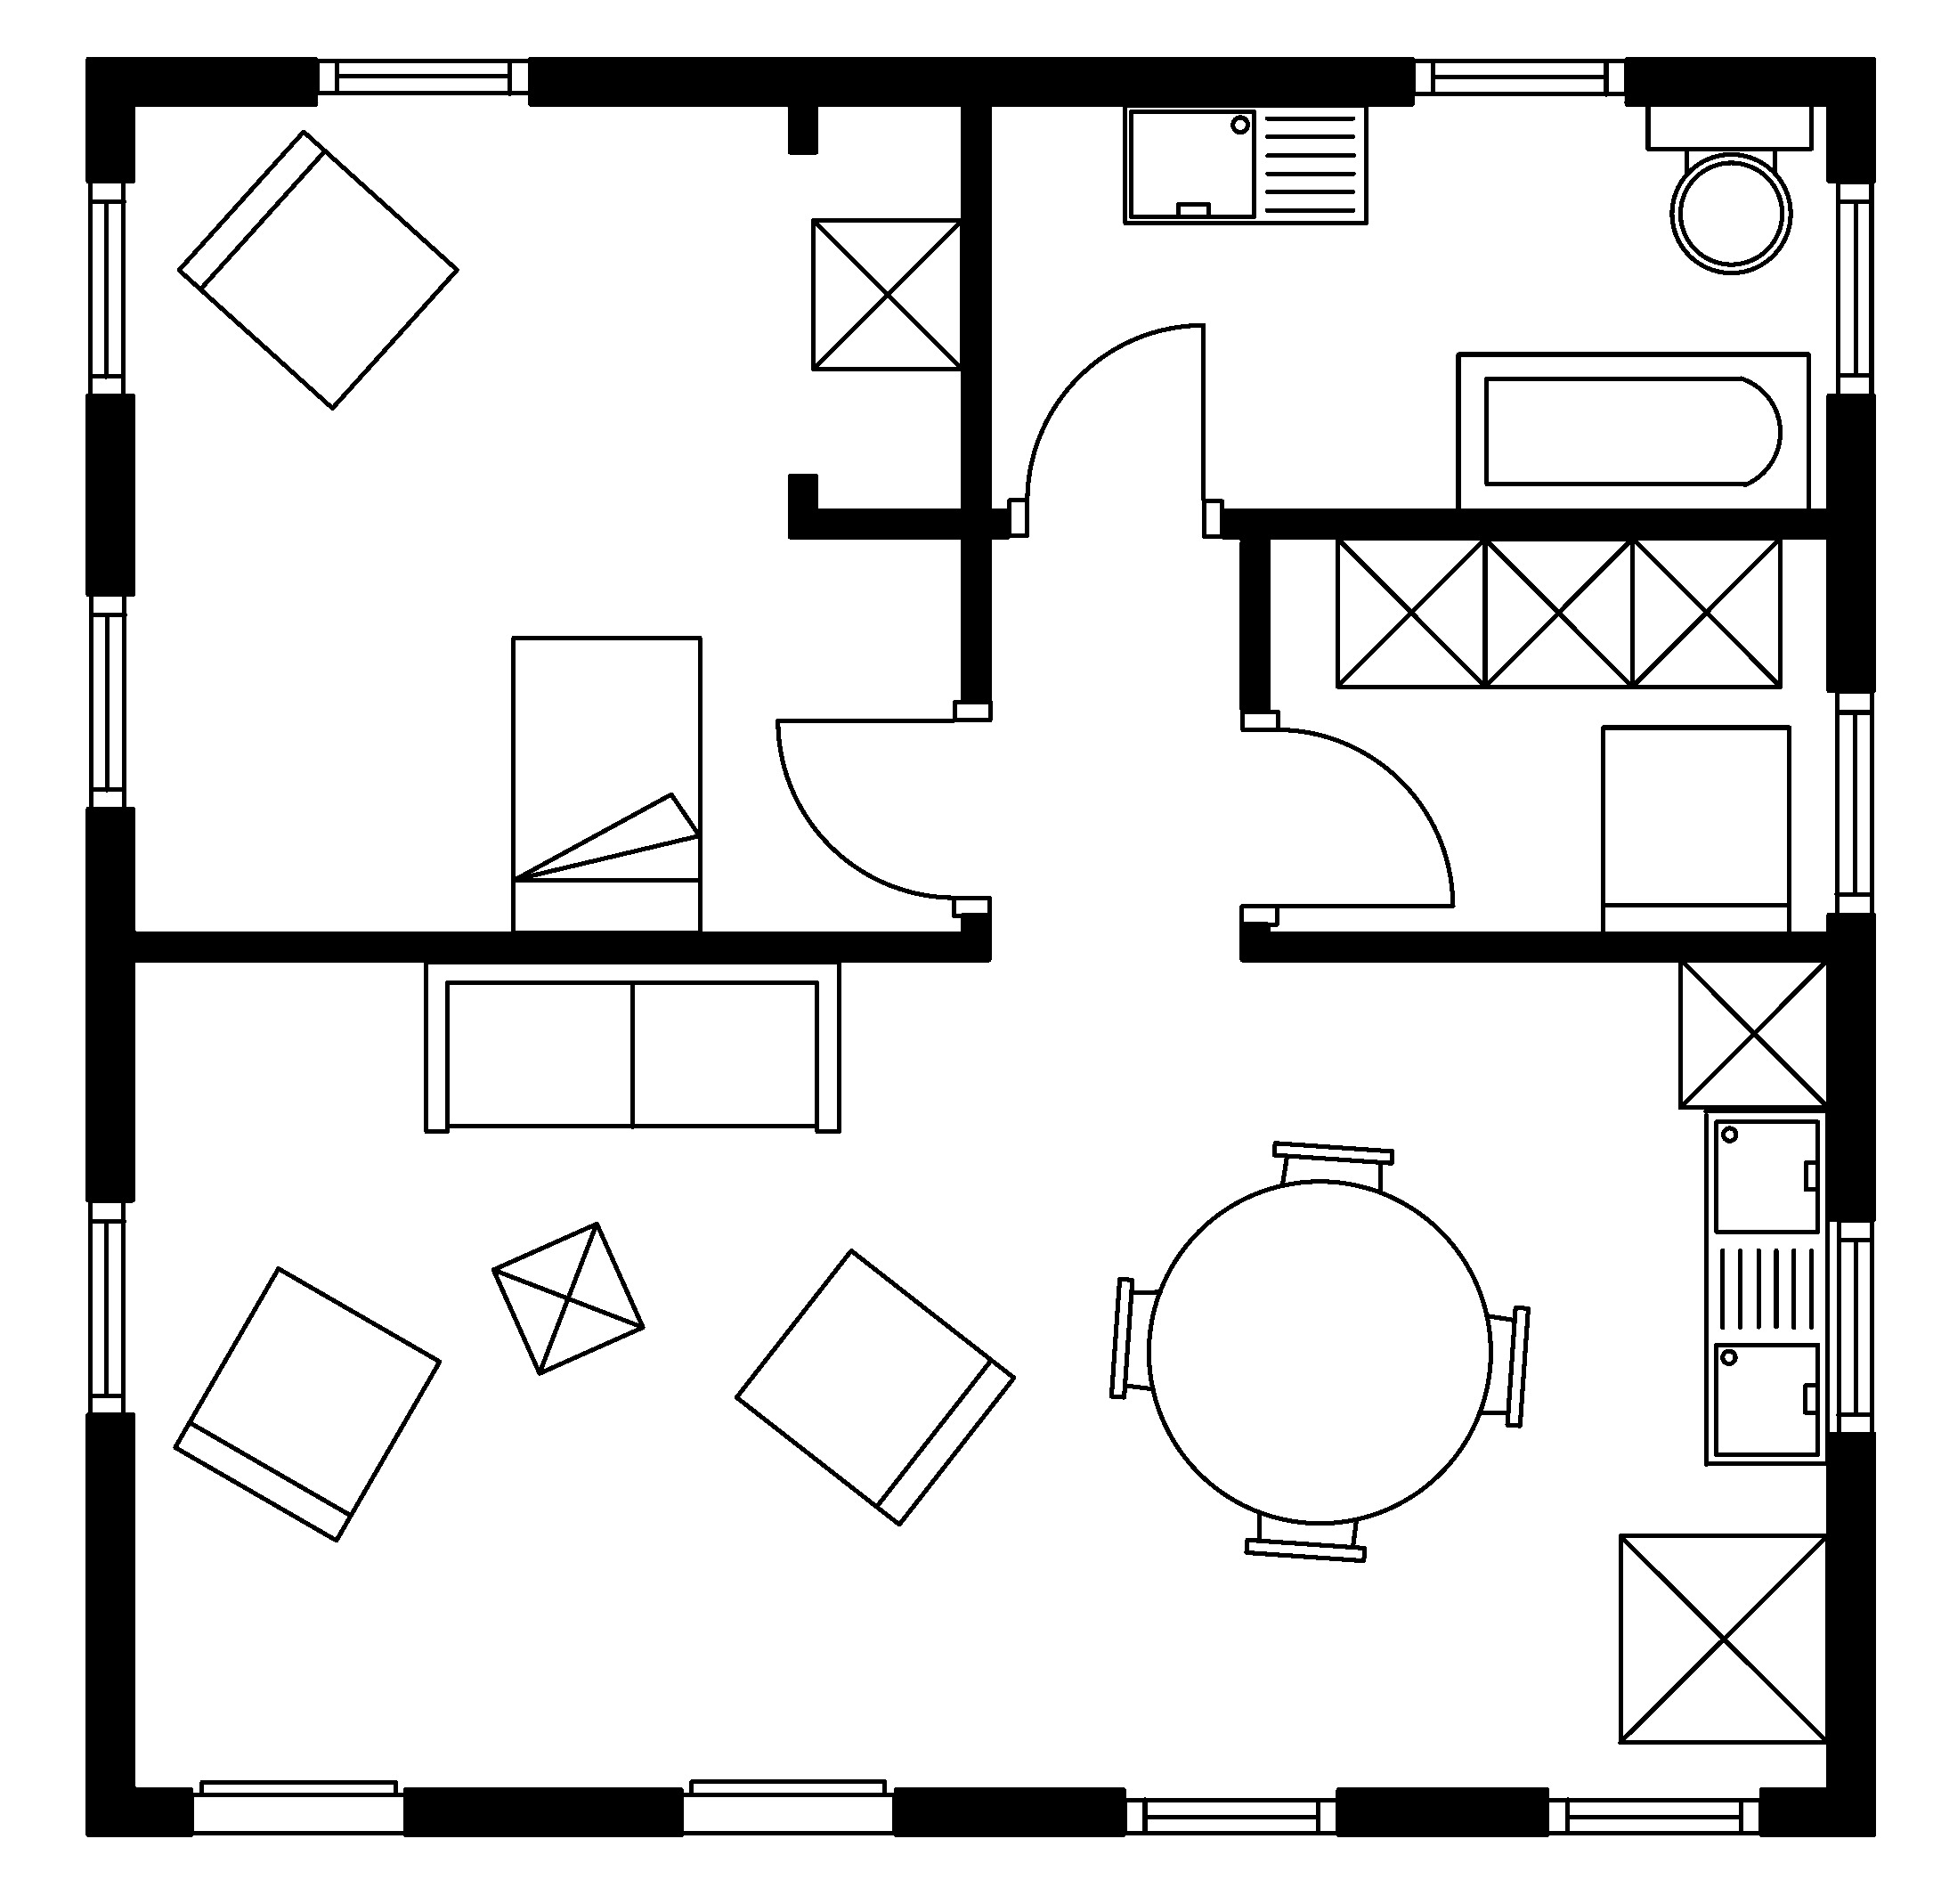basin: (1698, 1105, 1828, 1472), (1117, 103, 1375, 230)
bed: (507, 631, 708, 935)
door: (1006, 317, 1224, 539), (769, 703, 994, 914), (1238, 713, 1457, 924)
roundTable: (1102, 1139, 1536, 1569)
window: (1541, 1791, 1766, 1841), (1832, 689, 1879, 914), (1407, 54, 1628, 101), (1832, 180, 1879, 398), (84, 183, 131, 398), (84, 1201, 131, 1416), (1126, 1794, 1339, 1841), (317, 56, 533, 101), (85, 595, 131, 804), (1835, 1219, 1877, 1433)
